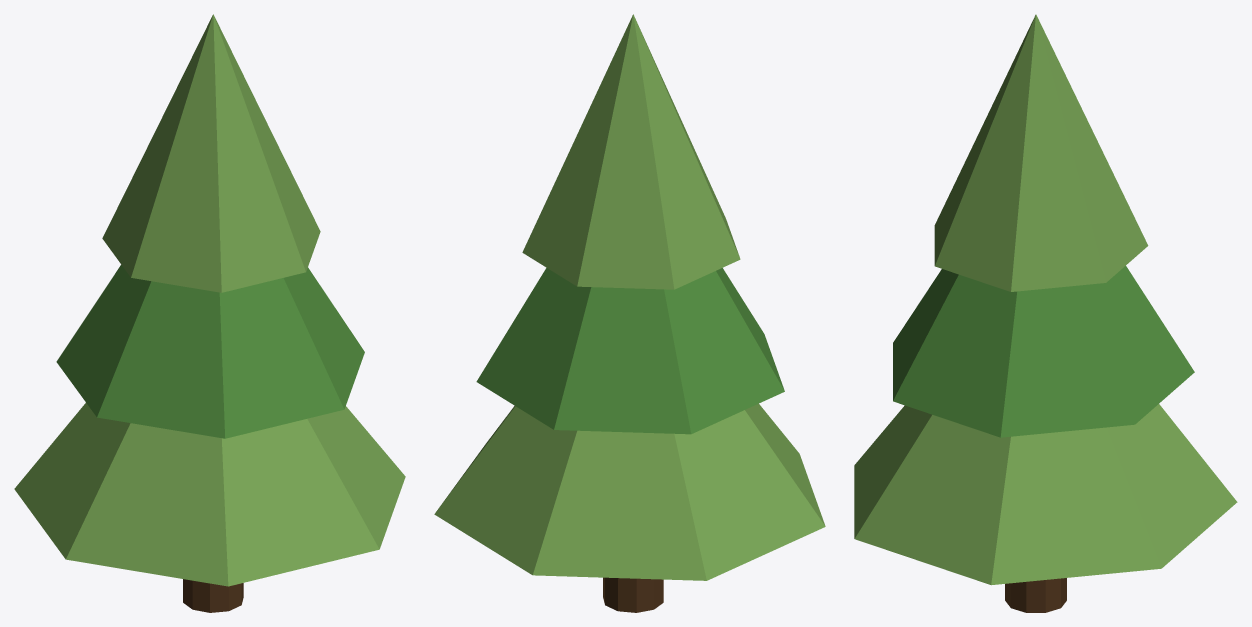
File: scenery_tree_pine.glb
3 renders of one model, left to right at view 1: azimuth 30°, elevation 25°; view 2: azimuth 150°, elevation 25°; view 3: azimuth 270°, elevation 25°, orthographic.
Visible parts, largest first — view 1: scenery_tree_pine__part_000, scenery_tree_pine__part_001, scenery_tree_pine__part_002, scenery_tree_pine__part_003; view 2: scenery_tree_pine__part_000, scenery_tree_pine__part_001, scenery_tree_pine__part_002, scenery_tree_pine__part_003; view 3: scenery_tree_pine__part_000, scenery_tree_pine__part_001, scenery_tree_pine__part_002, scenery_tree_pine__part_003.
Boxes of the visible parts, box(x1,y1,x2,y2) form: scenery_tree_pine__part_000: box(14, 403, 405, 586); scenery_tree_pine__part_001: box(56, 264, 364, 438); scenery_tree_pine__part_002: box(102, 14, 320, 292); scenery_tree_pine__part_003: box(183, 579, 243, 612); scenery_tree_pine__part_000: box(434, 403, 825, 580); scenery_tree_pine__part_001: box(476, 268, 784, 434); scenery_tree_pine__part_002: box(522, 14, 740, 289); scenery_tree_pine__part_003: box(603, 577, 663, 612); scenery_tree_pine__part_000: box(854, 404, 1237, 585); scenery_tree_pine__part_001: box(893, 266, 1194, 437); scenery_tree_pine__part_002: box(934, 14, 1148, 291); scenery_tree_pine__part_003: box(1005, 578, 1066, 612).
Bounding box in the file's own units: 1.01 × 1.67 × 0.9885.
